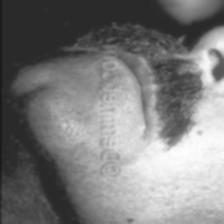Potentially Malignant Skin Tumors: (116, 75, 141, 109)
